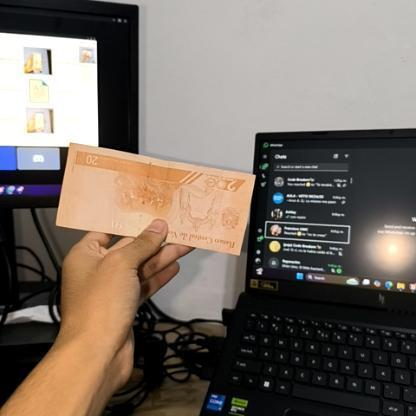twenty-back-vef: (54, 142, 255, 258)
